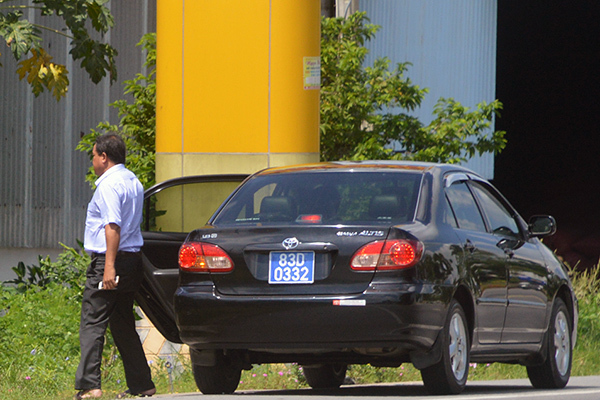plate: (266, 248, 315, 285)
